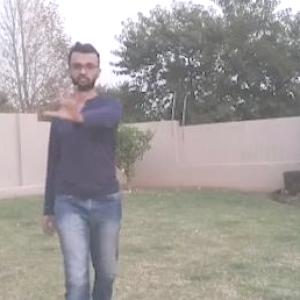follow_hand: (41, 78, 95, 122)
